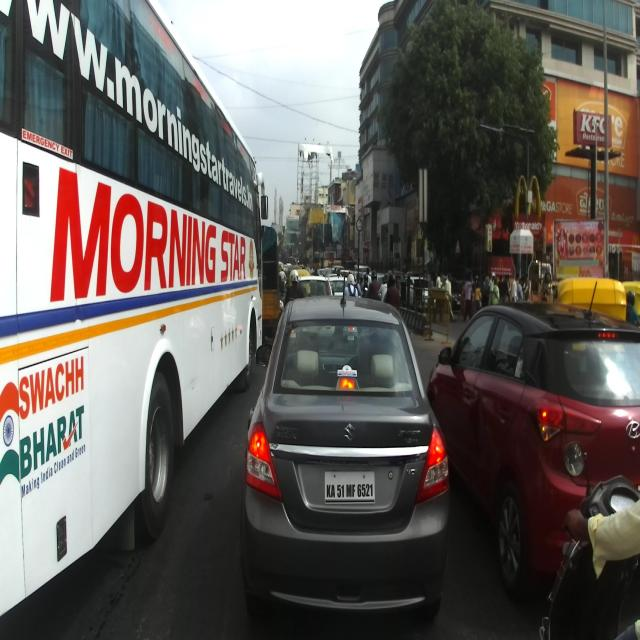autorickshaw: (557, 276, 627, 321), (621, 280, 640, 324)
bus: (0, 0, 267, 616)
car: (240, 272, 448, 619), (426, 280, 640, 594), (326, 272, 342, 276)
scooter: (538, 440, 640, 640)
